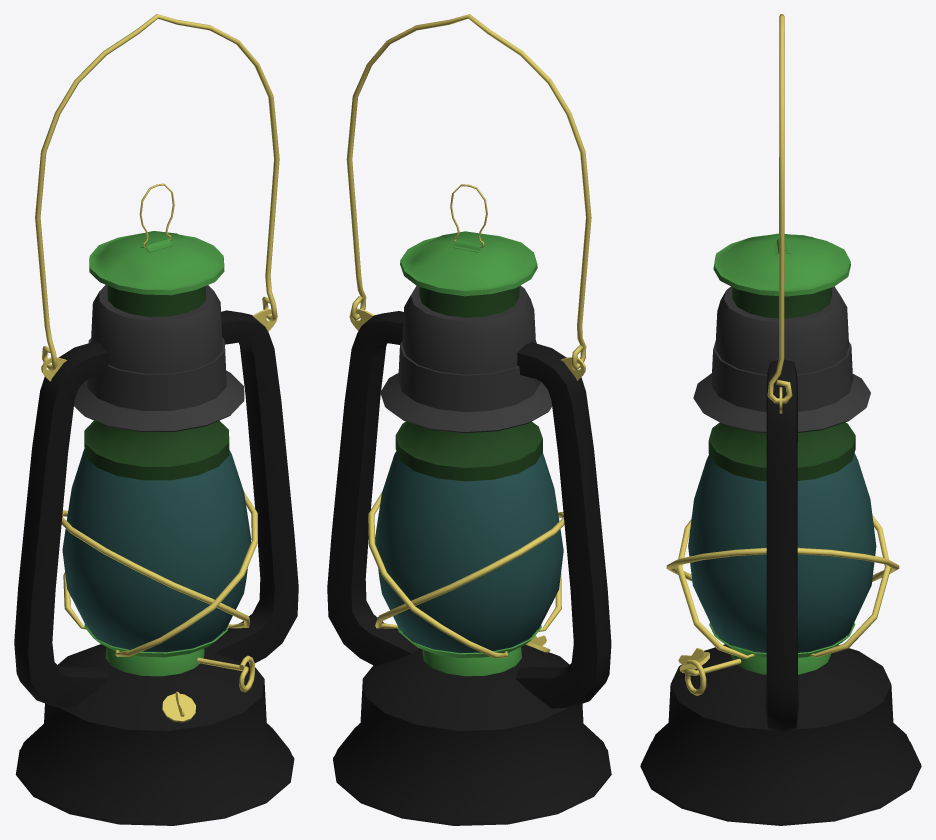
Rendered from SM_lamp_lp.FBX.
3 renders of one model, left to right at view 1: azimuth 30°, elevation 25°; view 2: azimuth 150°, elevation 25°; view 3: azimuth 270°, elevation 25°, orthographic.
Parts seen in each view (by area): view 1: Fuel tank 1, Vent cap2, Glass, Vent cap1, Top_pipe, Cap, Handle1, Hold tube1 (×2), Fuel tank 2, Ftank cap, Knob, Burner2 (+1 smaller); view 2: Fuel tank 1, Vent cap2, Glass, Vent cap1, Top_pipe, Cap, Handle1, Hold tube1 (×2), Fuel tank 2, Burner2, Handle1_1; view 3: Fuel tank 1, Glass, Vent cap1, Vent cap2, Top_pipe, Cap, Hold tube1 (×2), Handle1, Fuel tank 2, Knob.
Boxes of the visible parts, x1=… form: Fuel tank 1: x1=15, y1=644, x2=294, y2=825; Vent cap2: x1=14, y1=310, x2=298, y2=707; Glass: x1=62, y1=449, x2=251, y2=652; Vent cap1: x1=74, y1=285, x2=244, y2=431; Top_pipe: x1=84, y1=286, x2=229, y2=480; Cap: x1=89, y1=231, x2=224, y2=295; Handle1: x1=35, y1=14, x2=279, y2=371; Hold tube1 (×2): x1=61, y1=492, x2=257, y2=656; Fuel tank 2: x1=105, y1=647, x2=204, y2=676; Ftank cap: x1=162, y1=691, x2=195, y2=722; Knob: x1=197, y1=655, x2=254, y2=692; Burner2: x1=84, y1=624, x2=228, y2=657; Fuel tank 1: x1=333, y1=644, x2=611, y2=825; Vent cap2: x1=327, y1=311, x2=611, y2=708; Glass: x1=375, y1=451, x2=563, y2=653; Vent cap1: x1=380, y1=285, x2=552, y2=433; Top_pipe: x1=395, y1=286, x2=542, y2=481; Cap: x1=400, y1=231, x2=537, y2=296; Handle1: x1=346, y1=14, x2=591, y2=370; Hold tube1 (×2): x1=368, y1=492, x2=564, y2=658; Fuel tank 2: x1=422, y1=647, x2=521, y2=676; Burner2: x1=397, y1=625, x2=541, y2=657; Handle1_1: x1=349, y1=308, x2=586, y2=380; Fuel tank 1: x1=640, y1=644, x2=921, y2=825; Glass: x1=688, y1=453, x2=876, y2=652; Vent cap1: x1=693, y1=286, x2=870, y2=432; Vent cap2: x1=765, y1=359, x2=798, y2=733; Top_pipe: x1=708, y1=287, x2=855, y2=481; Cap: x1=713, y1=233, x2=850, y2=296; Hold tube1 (×2): x1=666, y1=515, x2=899, y2=658; Handle1: x1=767, y1=14, x2=792, y2=403; Fuel tank 2: x1=731, y1=648, x2=830, y2=674; Knob: x1=684, y1=658, x2=741, y2=695.
Size of the model in its own units: 67.73 by 175 by 59.32.
